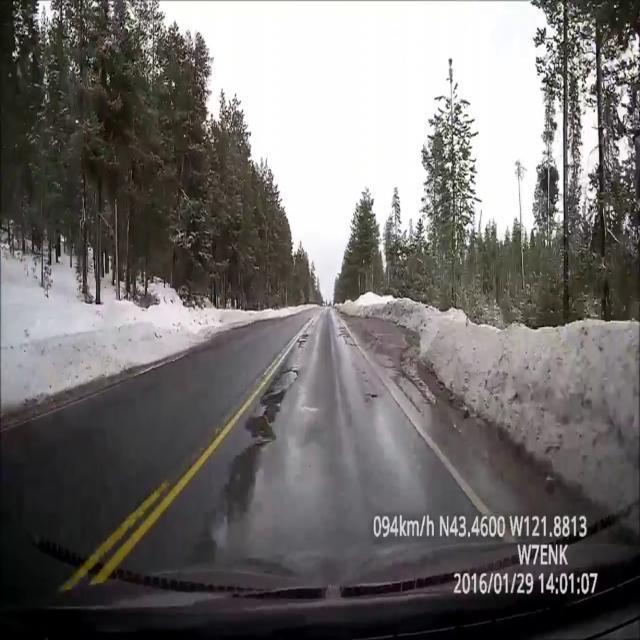pothole: (269, 368, 299, 396), (298, 337, 308, 343)
